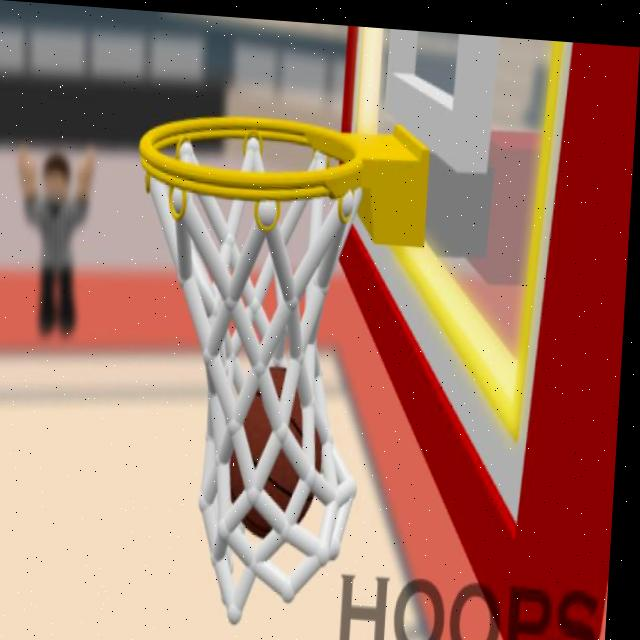basketball: (223, 361, 327, 543)
hoop: (112, 109, 380, 632)
